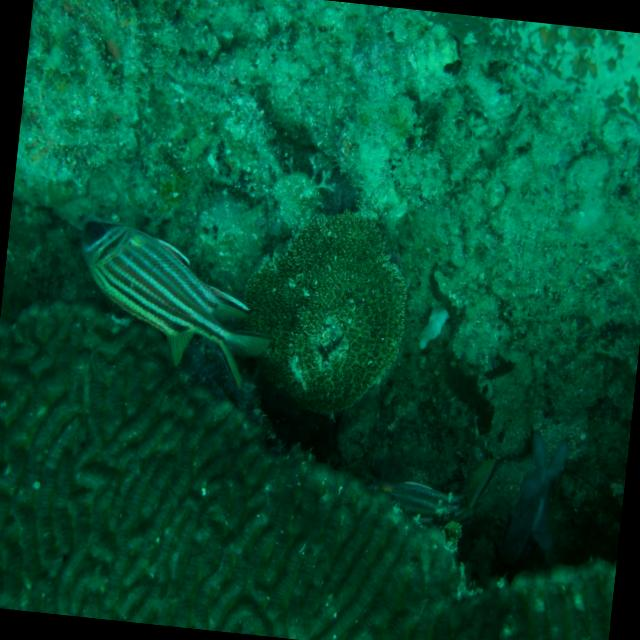Asker Baligi: (46, 192, 293, 422)
